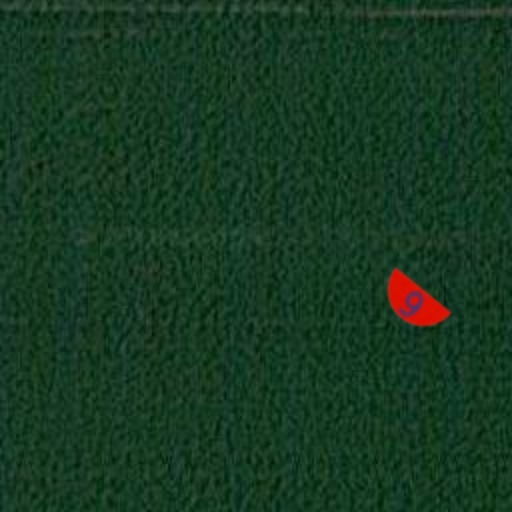semicircle: (360, 252, 464, 356)
